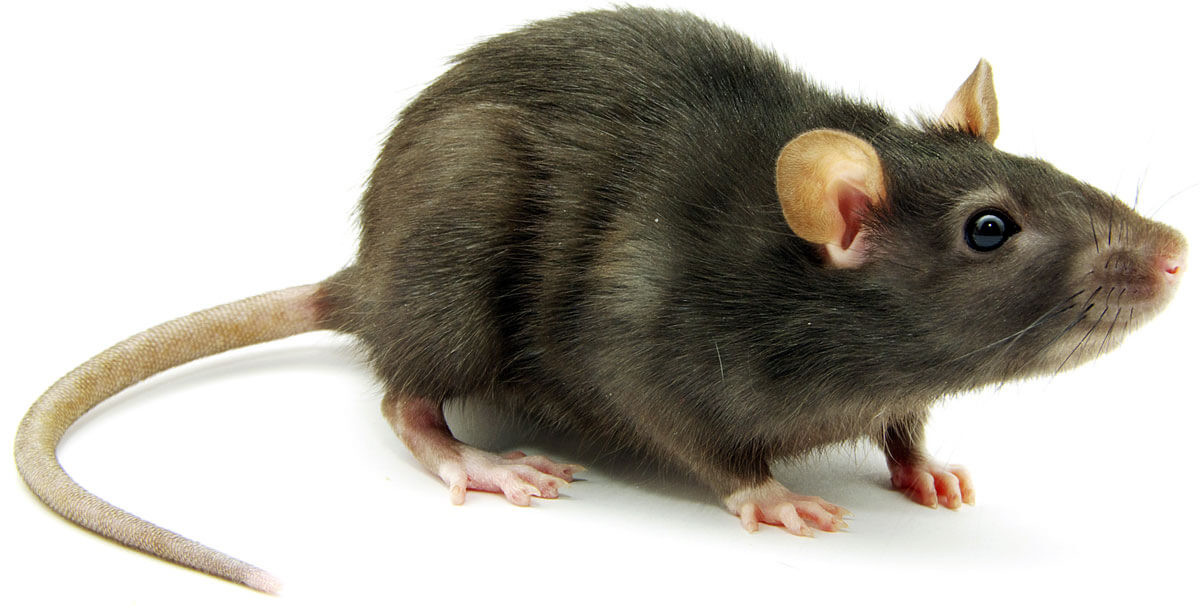rat: (4, 6, 1200, 612)
